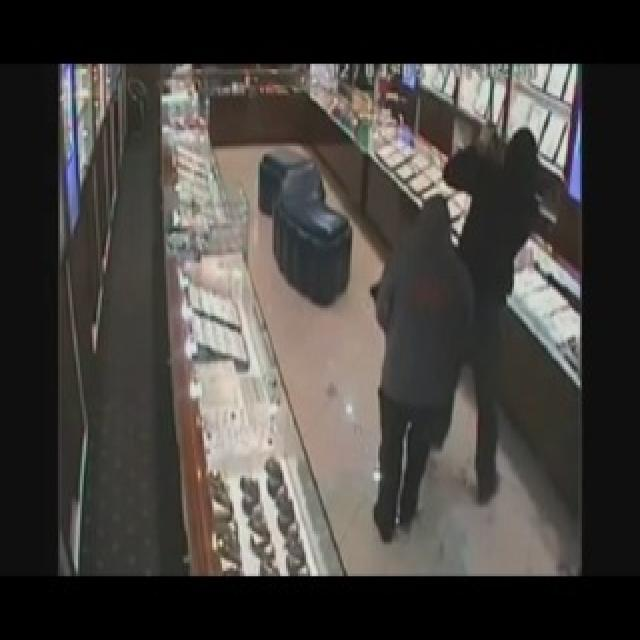thief: (344, 131, 550, 305)
